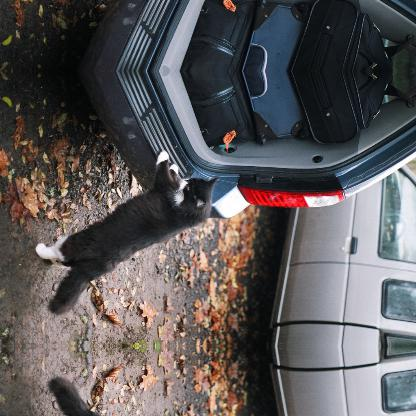Cat: (32, 146, 218, 318), (32, 373, 219, 415)
